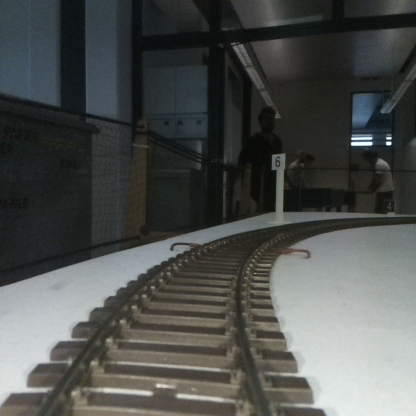white-info-6: (272, 153, 285, 224)
